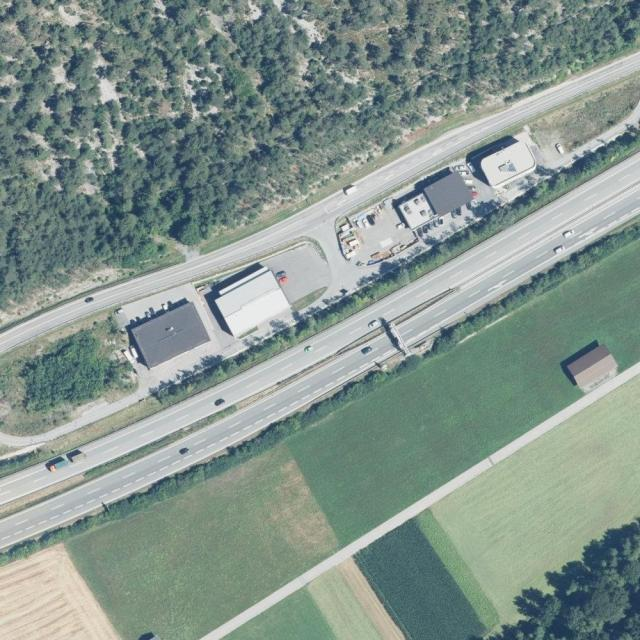agricultural_land: (65, 439, 351, 640), (412, 508, 504, 632), (304, 555, 406, 640), (222, 589, 335, 639)
building: (212, 268, 291, 339), (129, 301, 210, 370), (465, 129, 540, 195), (565, 342, 622, 397), (422, 169, 474, 219), (397, 192, 437, 232)
greenland: (0, 353, 424, 578), (155, 219, 482, 408), (422, 215, 640, 360), (478, 123, 640, 237), (5, 320, 127, 434), (571, 231, 624, 272)
metalled_road: (0, 392, 145, 454)
